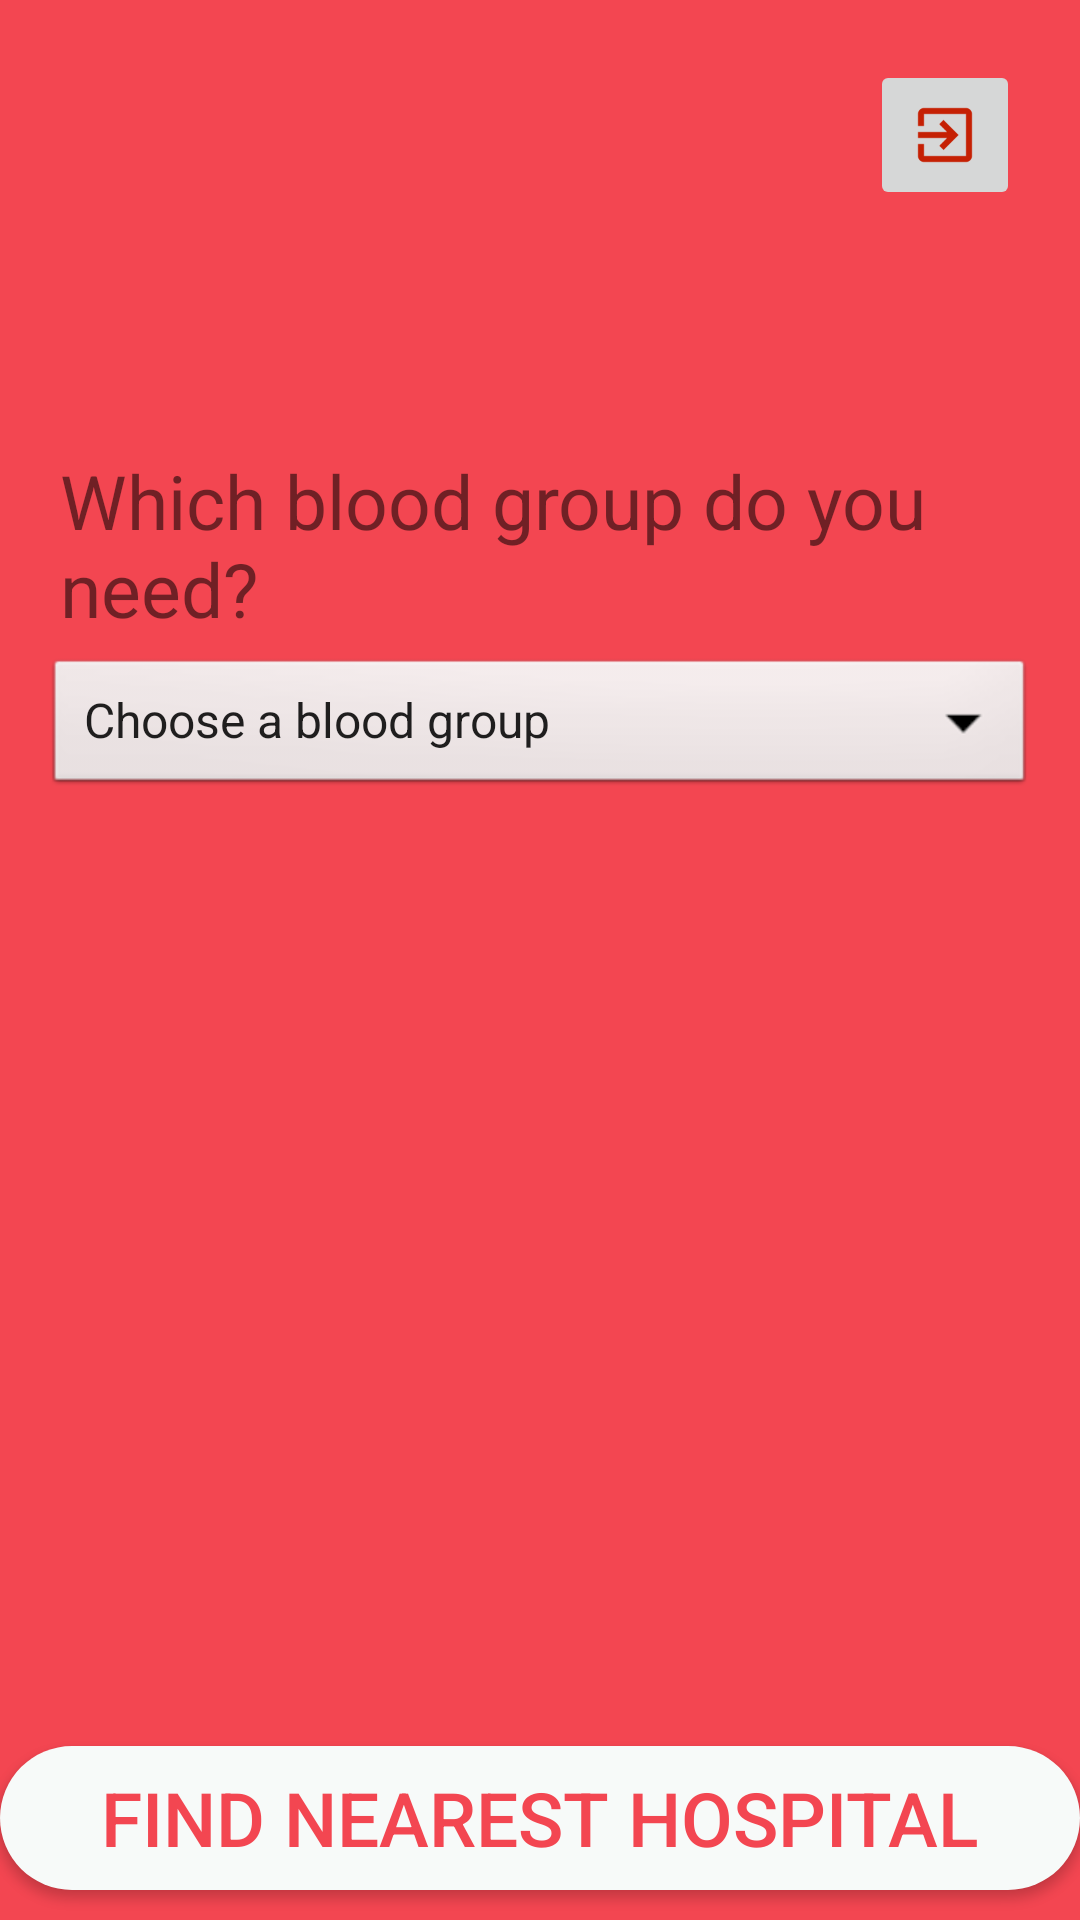

Screen size 1080 x 1920. Icon name, then its center in pixels as (x,y):
exit to app: (945,135)
